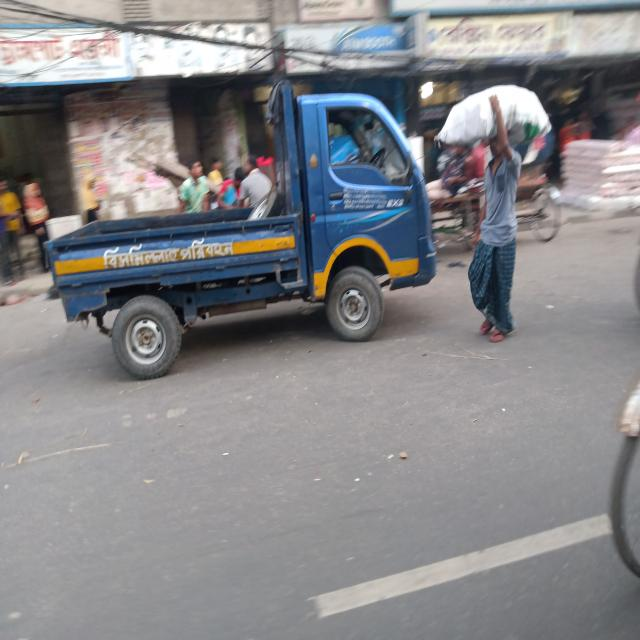truck: (43, 77, 437, 379)
